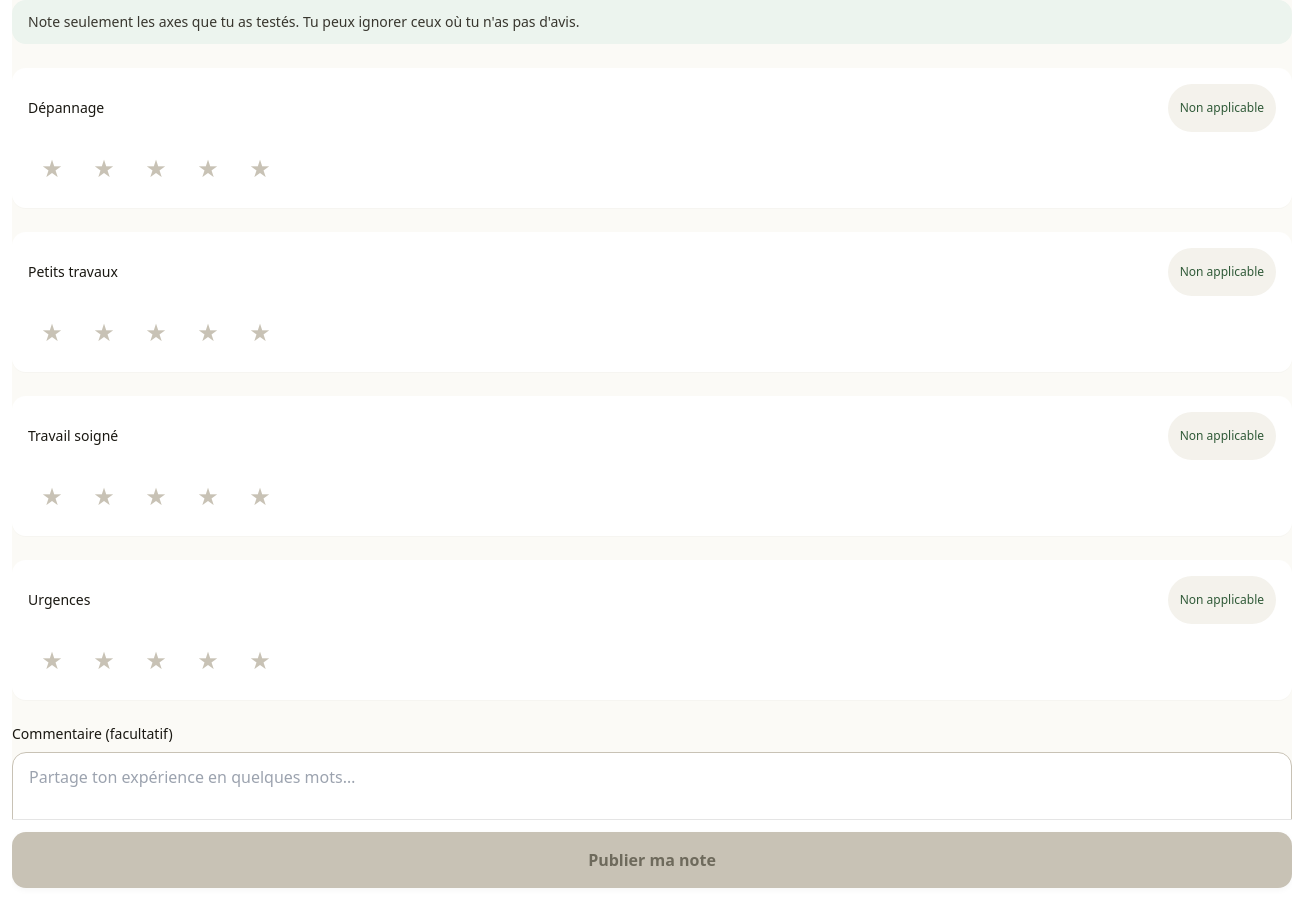
Test: RateForm › gate « ≥ 1 axe » : submit désactivé tant qu’aucun axe n’est noté
This screenshot has width=1304, height=900.
Check: the button "Publier ma note" is disabled, box left=12, top=832, right=1292, bottom=888
Click the 1st radio button labelled "★" at (52, 168), box left=28, top=144, right=76, bottom=192
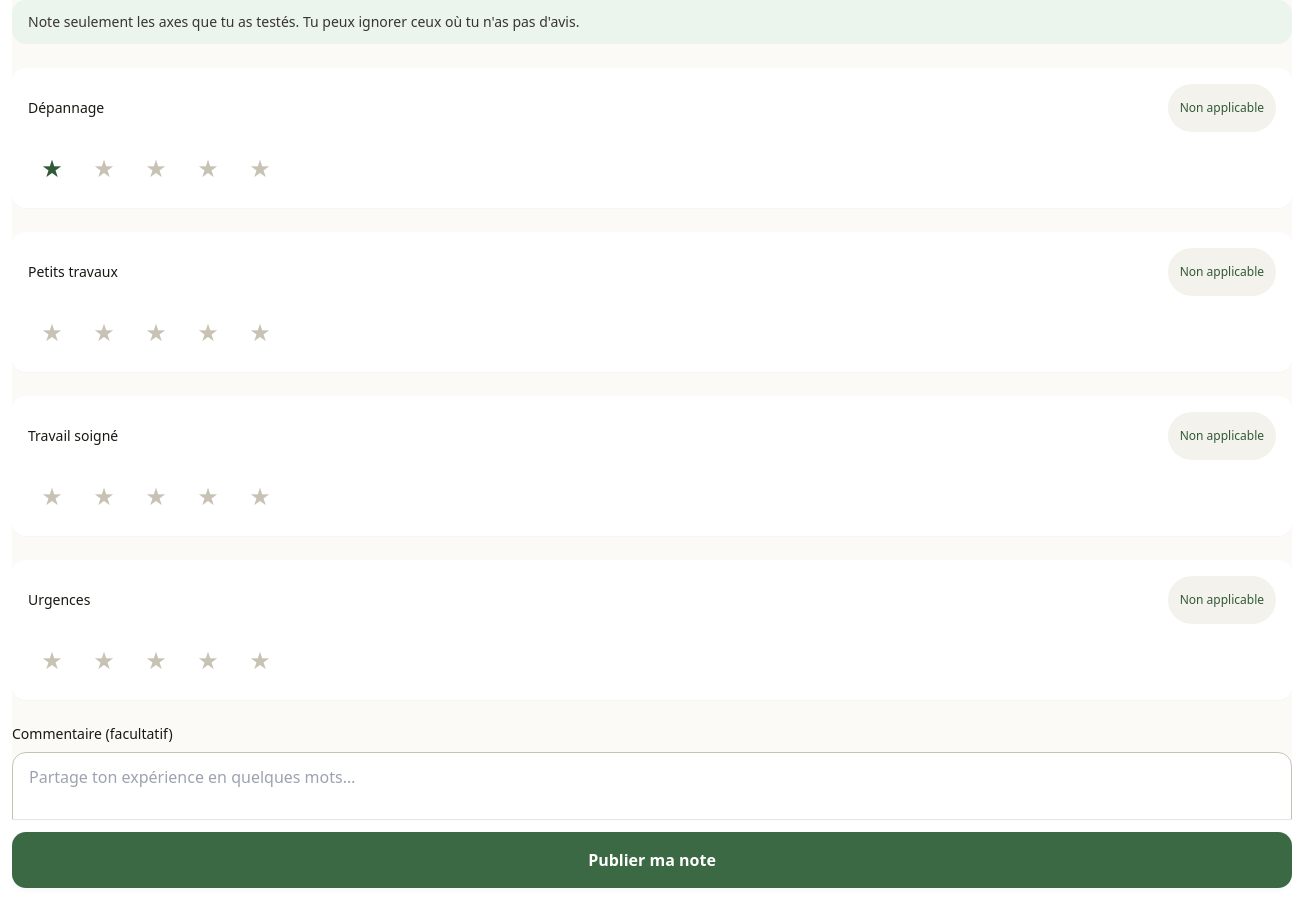
Check: the button "Publier ma note" is enabled, box left=12, top=832, right=1292, bottom=888
